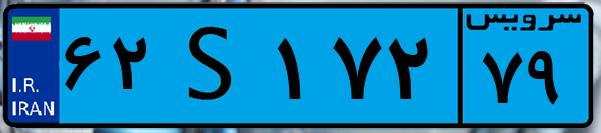1: (270, 28, 330, 110)
2: (385, 28, 445, 110), (110, 28, 158, 98)
6: (57, 26, 110, 100)
7: (330, 28, 385, 110), (475, 38, 525, 113)
9: (525, 38, 570, 115)
S: (158, 12, 270, 120)
